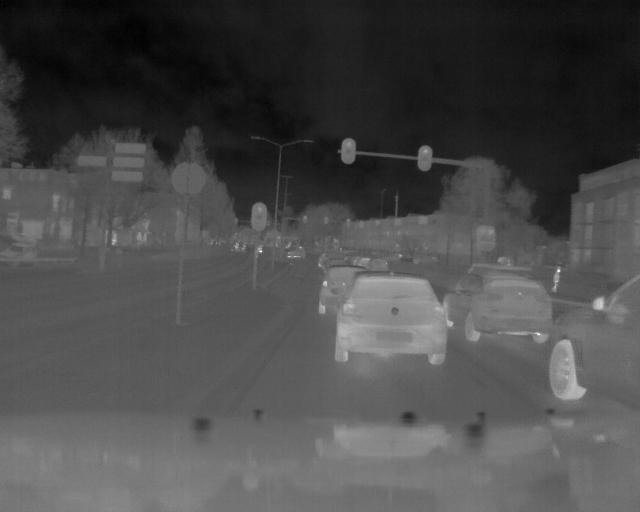car: (546, 258, 640, 412), (333, 270, 448, 367), (445, 260, 555, 347), (317, 260, 343, 315)
